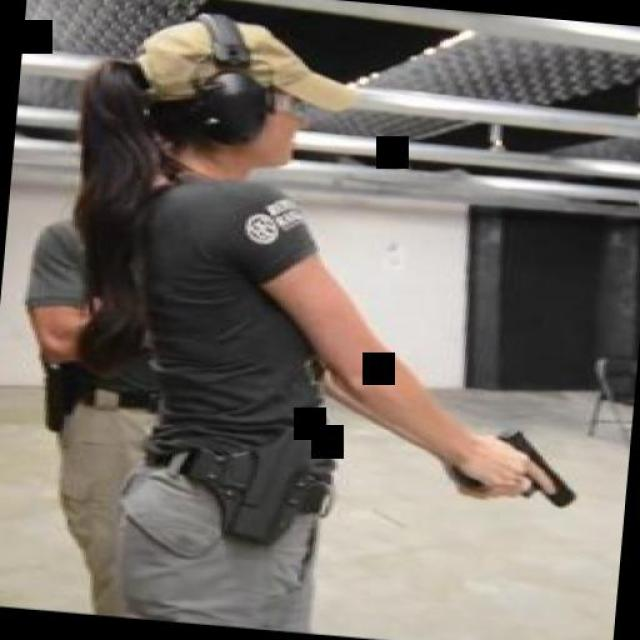gun: (444, 422, 578, 508)
